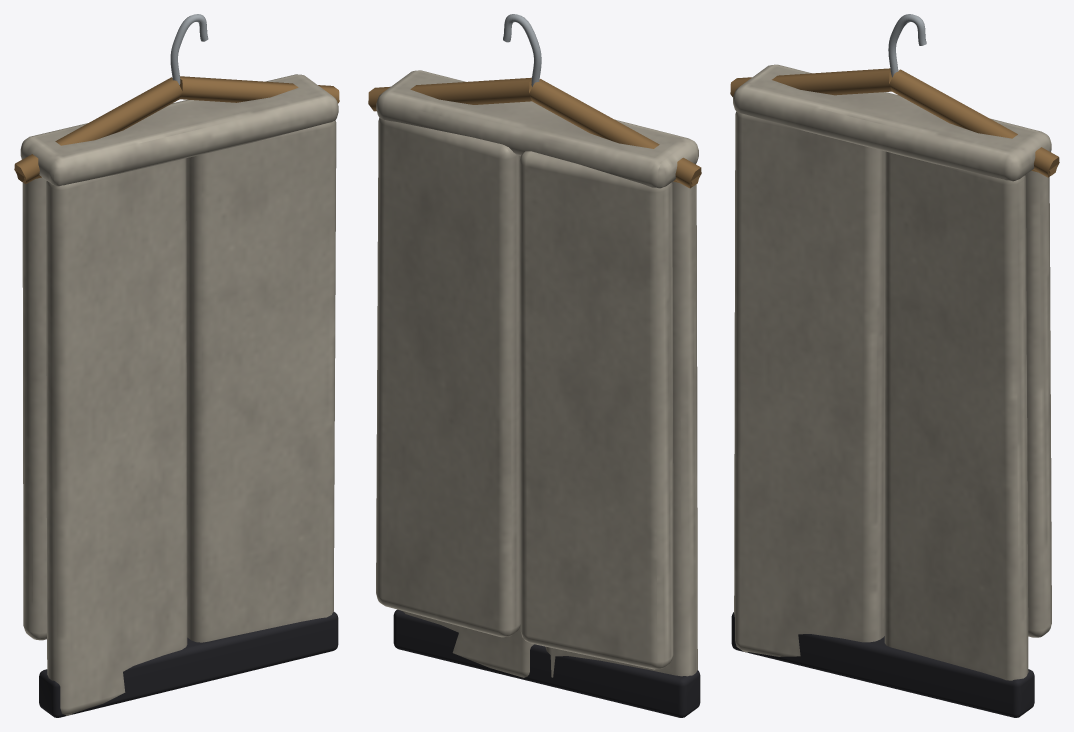
File: ciuch_spodnie.glb
The picture shows the model from 3 angles, left to right: view 1: azimuth 30°, elevation 25°; view 2: azimuth 150°, elevation 25°; view 3: azimuth 330°, elevation 25°; orthographic projection. The views are drawn at different scales.
Parts seen in each view (by area): view 1: TintTkanina, Wieszak; view 2: TintTkanina, Wieszak; view 3: TintTkanina, Wieszak.
Part boxes in pixels (left/top/right/bottom): TintTkanina: left=20, top=74, right=338, bottom=715; Wieszak: left=14, top=14, right=339, bottom=717; TintTkanina: left=376, top=70, right=698, bottom=677; Wieszak: left=368, top=14, right=701, bottom=717; TintTkanina: left=733, top=64, right=1051, bottom=680; Wieszak: left=730, top=14, right=1059, bottom=717.
Bounding box in the file's own units: 0.3454 × 0.6764 × 0.0873.
4 materials, 1 textured.
